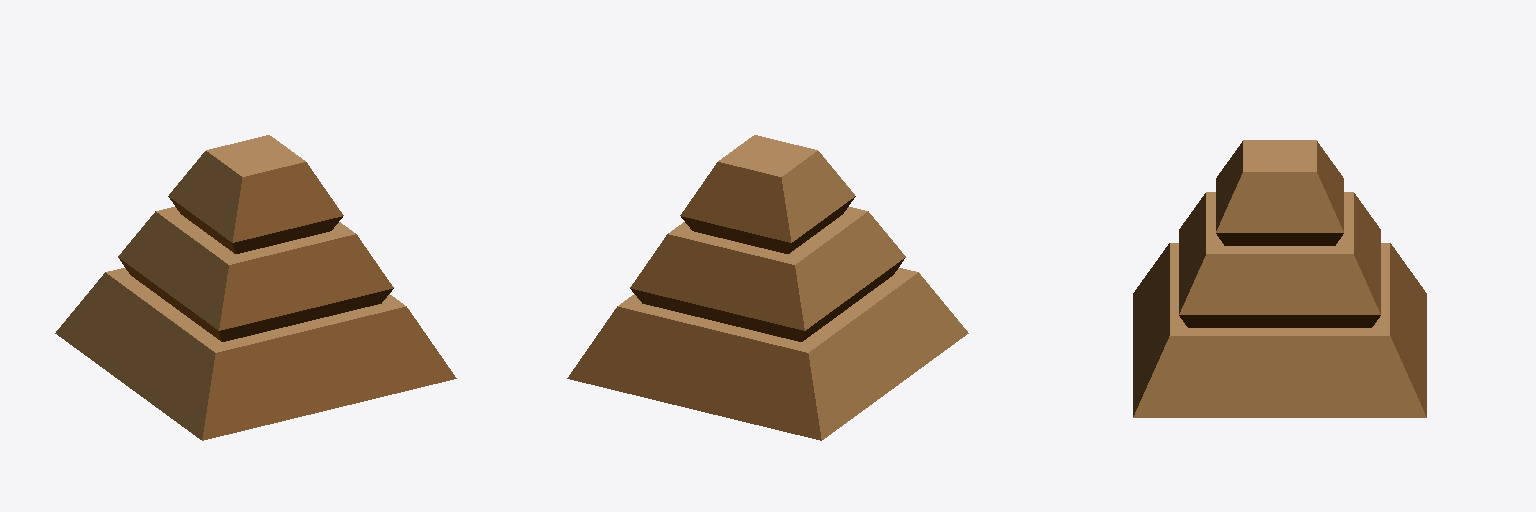
Rendered from Pyramid_Level1.obj.
3 renders of one model, left to right at view 1: azimuth 30°, elevation 25°; view 2: azimuth 150°, elevation 25°; view 3: azimuth 270°, elevation 25°, orthographic.
Visible parts, largest first — view 1: Mesh1, Mesh2, Mesh3, Mesh4; view 2: Mesh1, Mesh2, Mesh3, Mesh4; view 3: Mesh2, Mesh1, Mesh3, Mesh4.
Boxes of the visible parts, box(x1,y1,x2,y2) form: Mesh1: box(202, 162, 456, 440); Mesh2: box(55, 151, 241, 439); Mesh3: box(106, 135, 405, 352); Mesh4: box(119, 196, 393, 341); Mesh1: box(567, 162, 821, 440); Mesh2: box(782, 151, 968, 439); Mesh3: box(618, 135, 917, 352); Mesh4: box(630, 196, 904, 341); Mesh2: box(1133, 172, 1426, 417); Mesh1: box(1133, 141, 1426, 416); Mesh3: box(1170, 140, 1389, 335); Mesh4: box(1179, 233, 1380, 327).
Size of the model in its own units: 8 by 6 by 8.